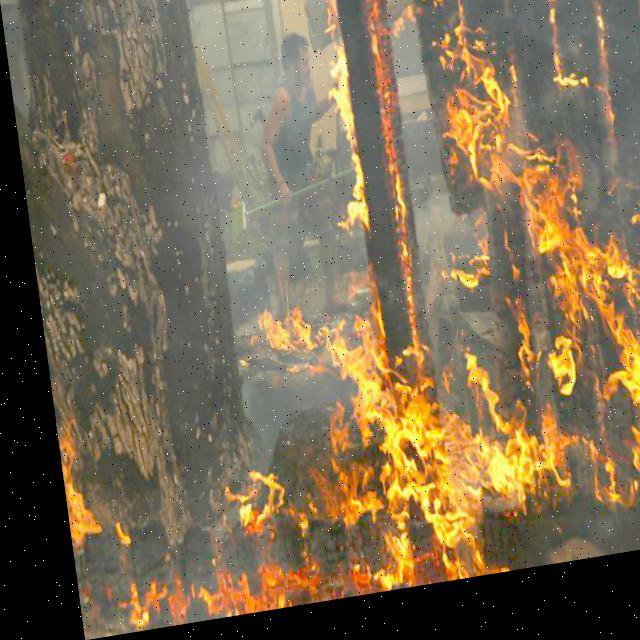Fire: (189, 0, 639, 611)
